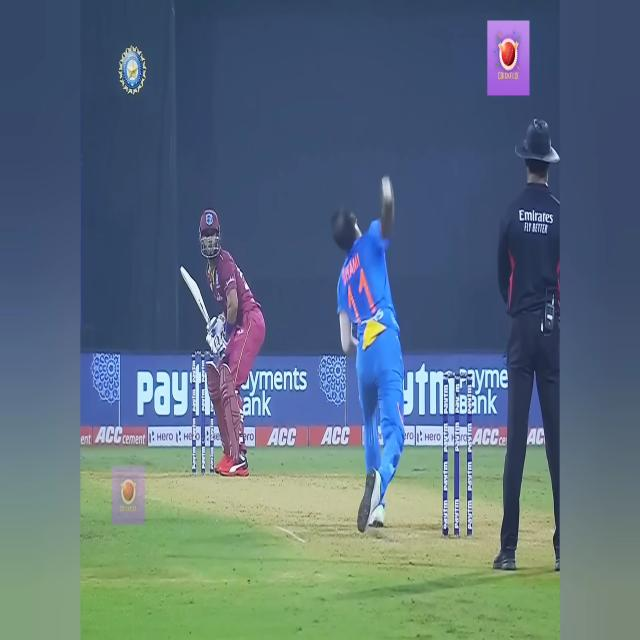partially_visible: (133, 360, 224, 430)
